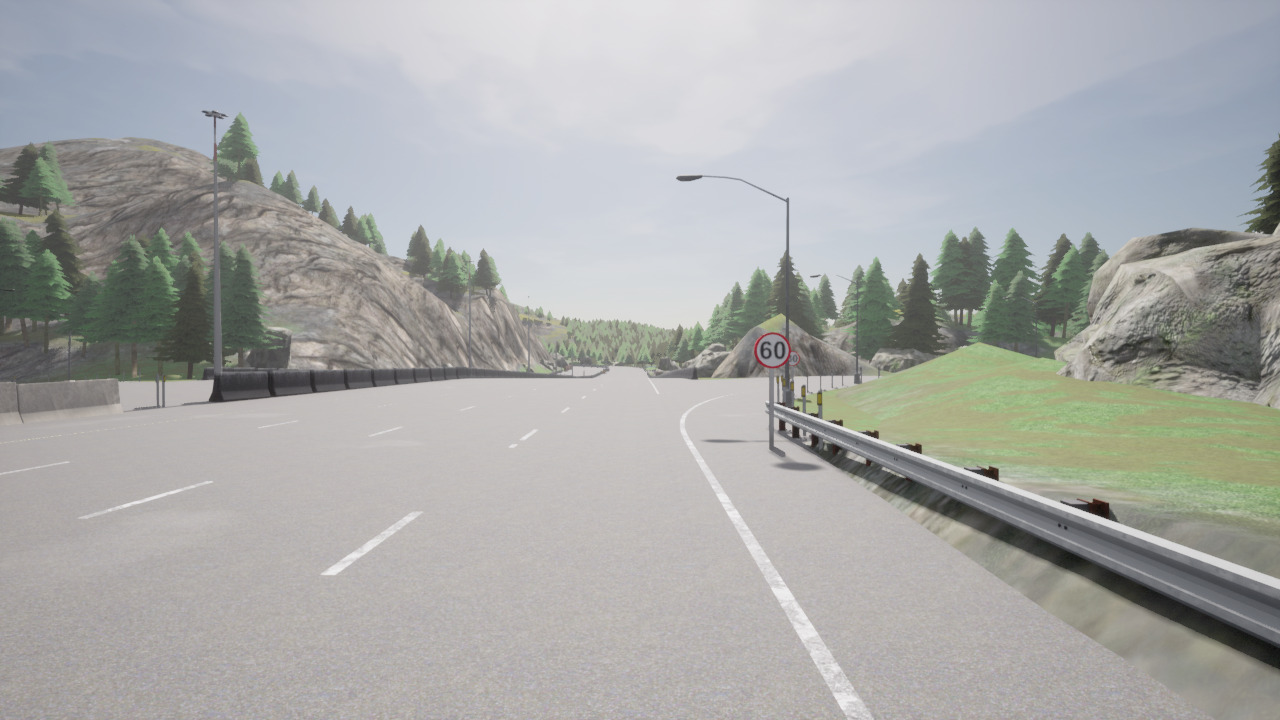sl60: (752, 331, 792, 369)
